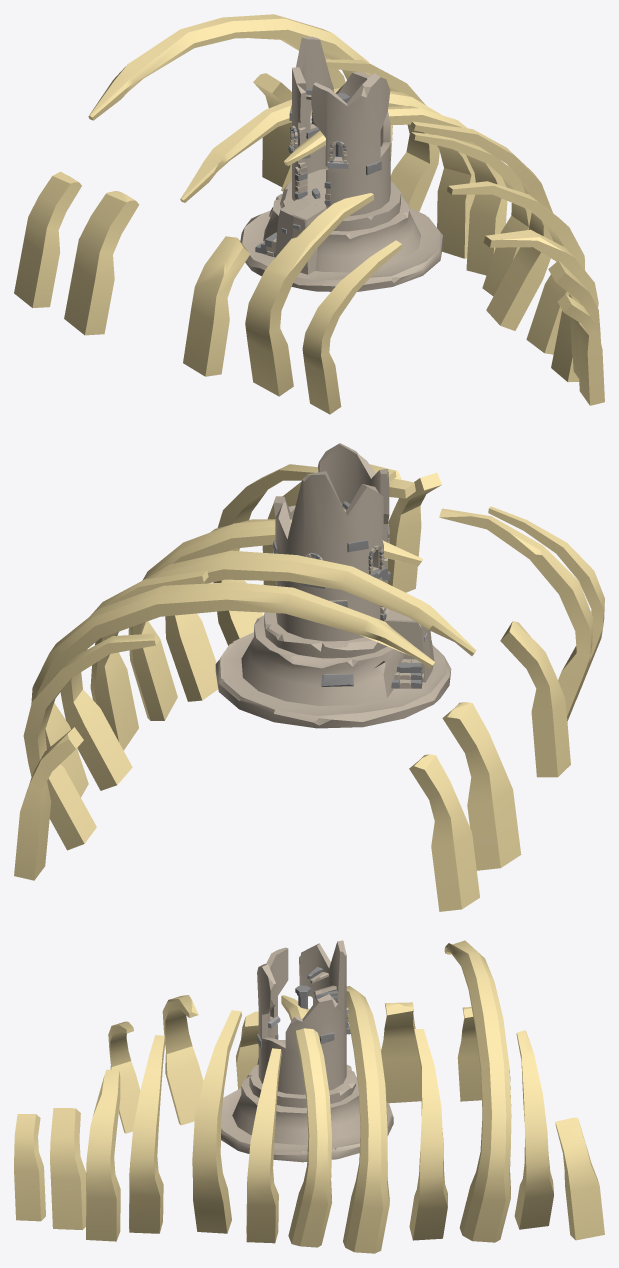
Rendered from Fantasy_Island.fbx.
3 renders of one model, top to bottom at view 1: azimuth 30°, elevation 25°; view 2: azimuth 150°, elevation 25°; view 3: azimuth 270°, elevation 25°, orthographic. The views are drawn at different scales.
Visible parts, largest first — view 1: Squelet_Balaine, Tour; view 2: Squelet_Balaine, Tour; view 3: Squelet_Balaine, Tour.
Boxes of the visible parts, x1,y1,x2,y2 form: Squelet_Balaine: [14, 14, 604, 414]; Tour: [240, 36, 443, 291]; Squelet_Balaine: [14, 464, 604, 911]; Tour: [215, 443, 451, 728]; Squelet_Balaine: [14, 940, 604, 1253]; Tour: [221, 940, 393, 1162].
Bounding box in the file's own units: 1583 × 1068 × 2341.
